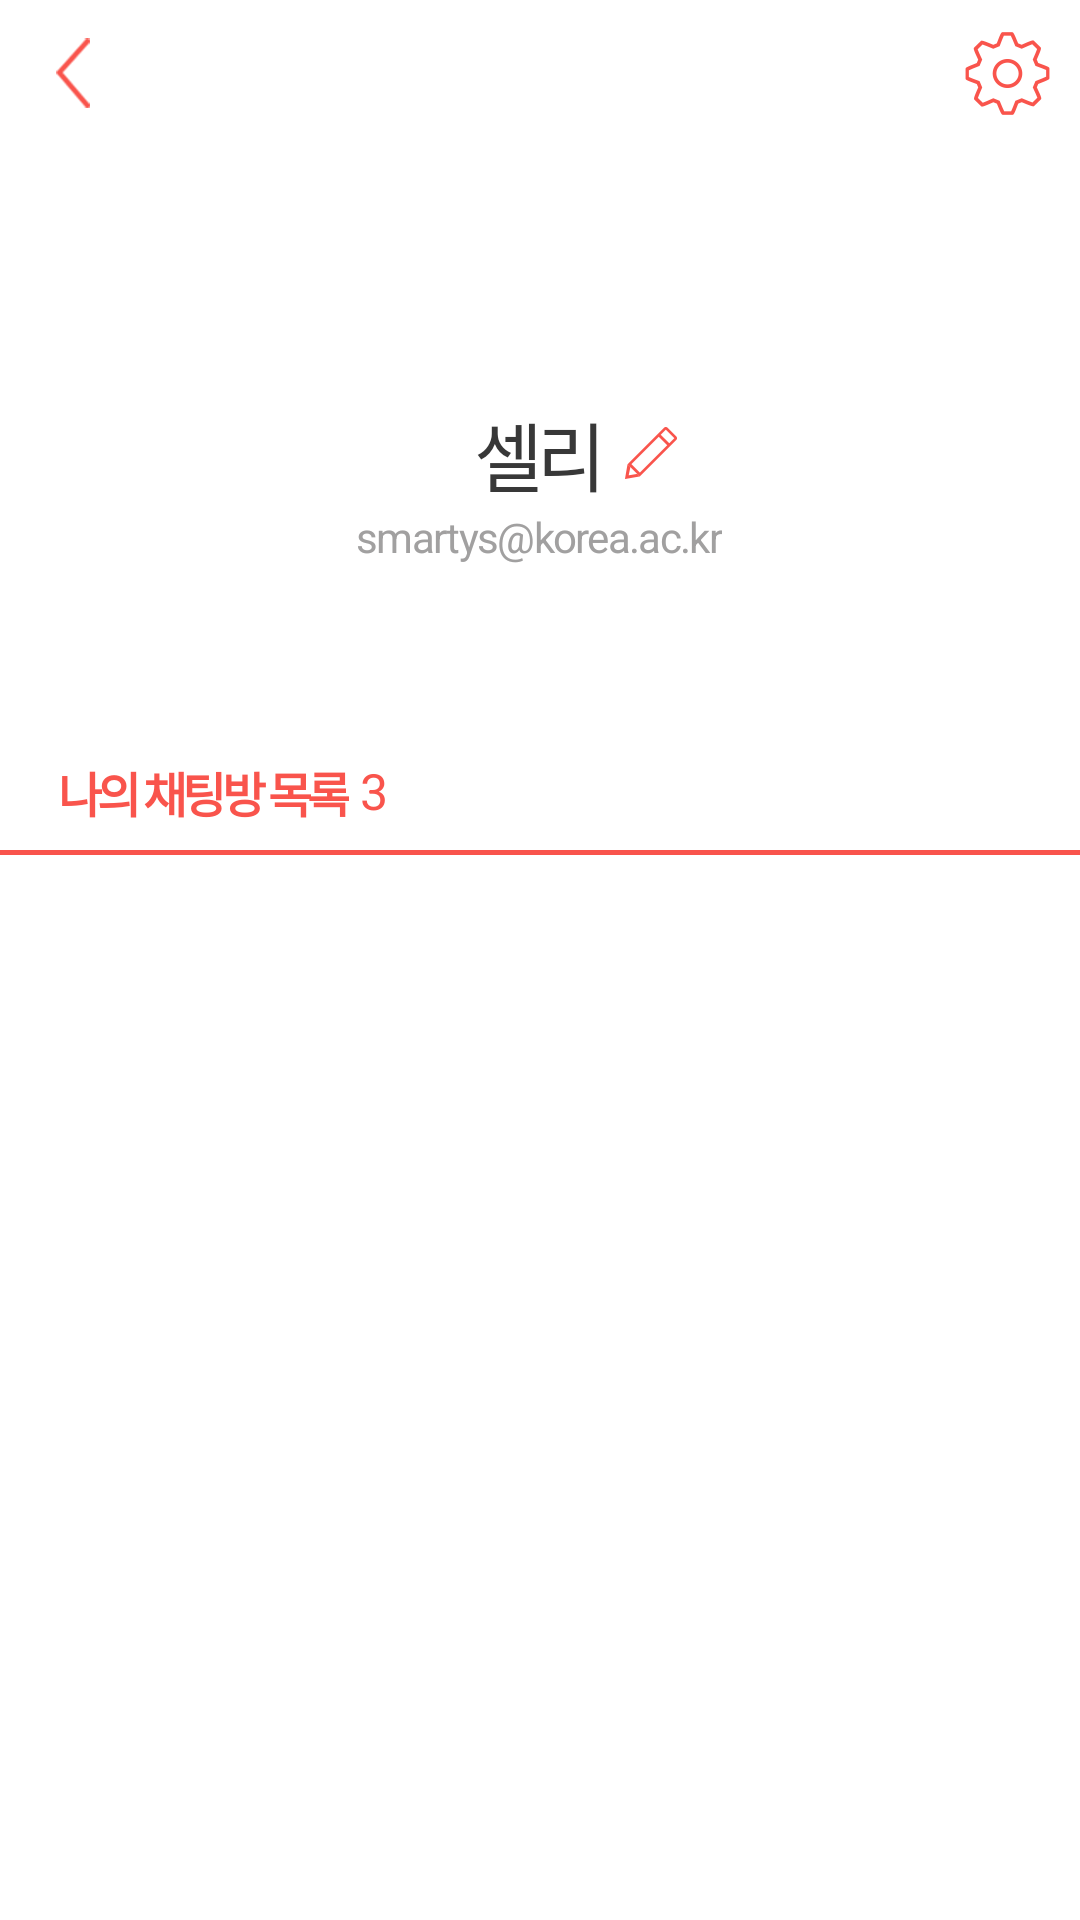

Icon bounding boxes for this 1080x1920 phone screenshot, format {"left": x1, "top": y1, "right": x2, "bottom": y2}:
back: {"left": 56, "top": 38, "right": 90, "bottom": 108}
pencil: {"left": 625, "top": 427, "right": 677, "bottom": 479}
setting: {"left": 965, "top": 32, "right": 1050, "bottom": 115}
